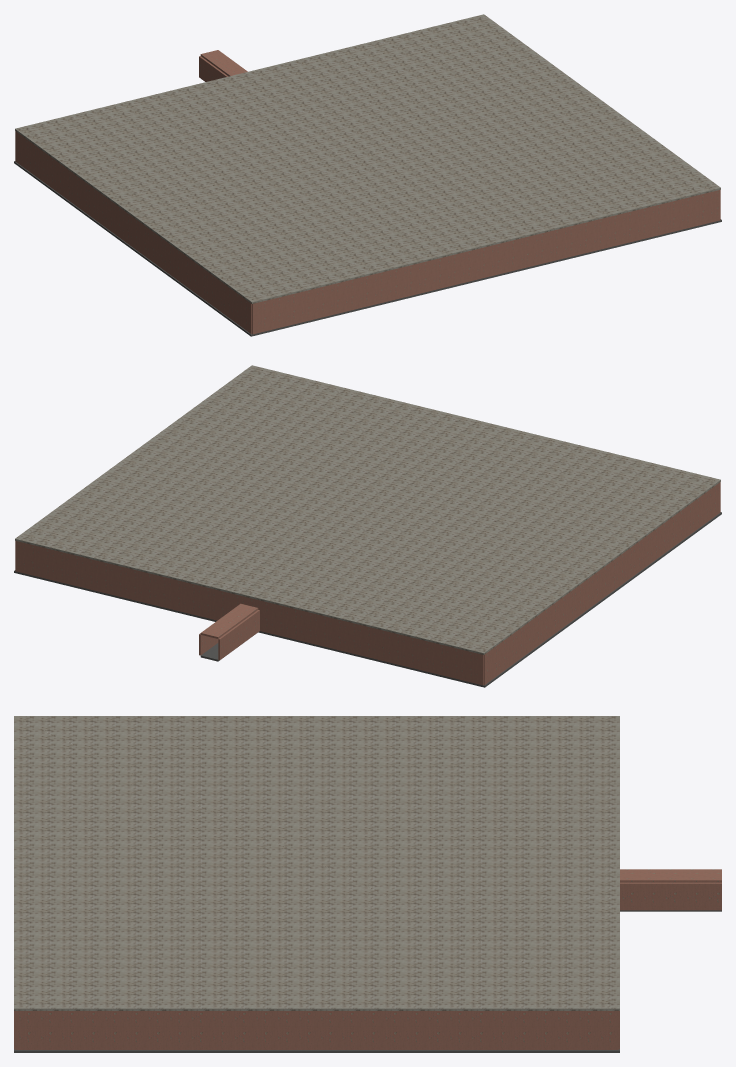
The model's file is zone_mirror.glb.
3 views of the same model, one above another, from view 1: azimuth 30°, elevation 25°; view 2: azimuth 150°, elevation 25°; view 3: azimuth 270°, elevation 25° (orthographic). The views are drawn at different scales.
Visible parts, largest first — view 1: U_ceiling, U_maze_walls, U_floor, U_corridor; view 2: U_ceiling, U_maze_walls, U_corridor, U_floor; view 3: U_ceiling, U_maze_walls, U_corridor, U_floor.
Boxes of the visible parts, x1,y1,x2,y2 form: U_ceiling: [15, 14, 720, 303]; U_maze_walls: [15, 131, 720, 334]; U_floor: [14, 161, 721, 336]; U_corridor: [199, 50, 247, 81]; U_ceiling: [15, 365, 720, 654]; U_maze_walls: [15, 482, 720, 685]; U_corridor: [199, 603, 259, 660]; U_floor: [14, 512, 721, 687]; U_ceiling: [14, 716, 619, 1010]; U_maze_walls: [14, 1011, 619, 1049]; U_corridor: [620, 869, 721, 910]; U_floor: [14, 1049, 619, 1052].
Size of the model in its own units: 80.6 by 5.6 by 82.15.
Materials: 4 (4 with a texture image).
